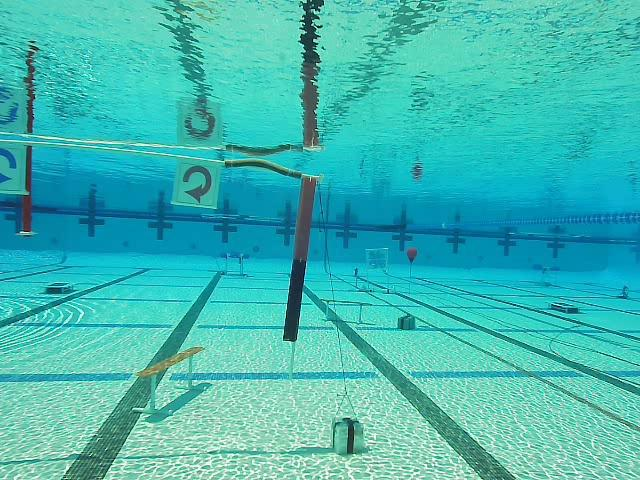buoy: (406, 248, 417, 263)
gate_leg_r: (283, 174, 318, 342)
gate_red: (174, 160, 219, 207)
table: (218, 251, 249, 277)
torpedo: (365, 247, 391, 271)
